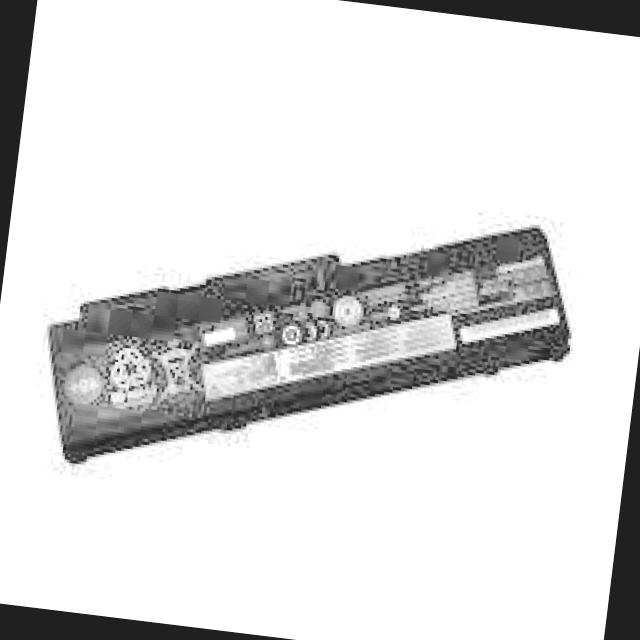Battery: (34, 168, 584, 522)
